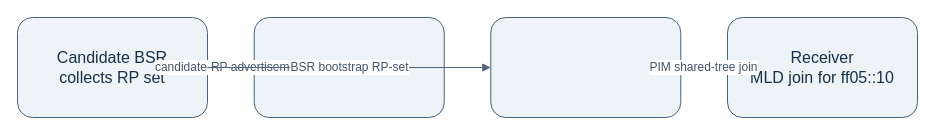
Some shapes in this 935 by 135 pixel diagram are drawn without their labels. The shapes that lost their labels are listed below. From the top down, each one's box as (x1, y1, x2, y2) in pixels, then its label:
(253, 16, 444, 118): Candidate RP advertises group scope
(490, 16, 681, 118): Last-hop router learns RP mapping
